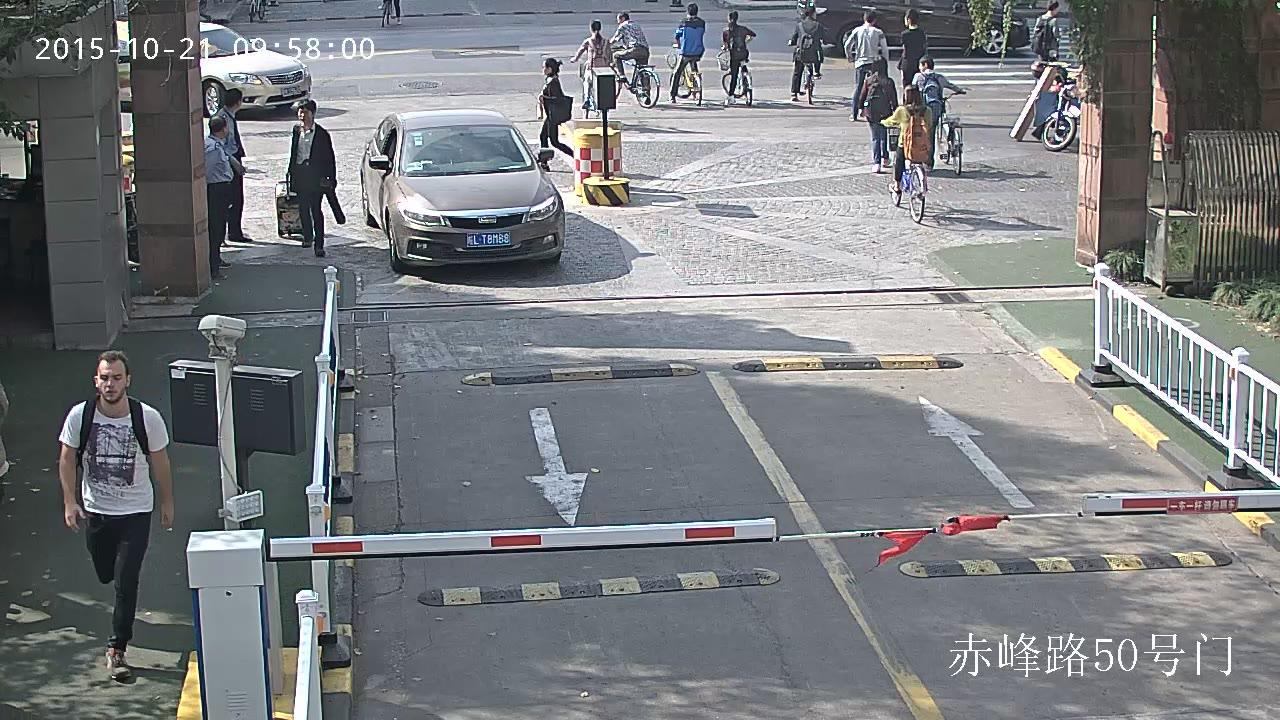person: (57, 348, 174, 680), (275, 99, 344, 256), (286, 99, 346, 256), (877, 83, 934, 223), (909, 54, 966, 176), (203, 114, 246, 268), (212, 87, 253, 243), (910, 54, 962, 175), (878, 84, 933, 193), (844, 8, 888, 122), (609, 11, 659, 109), (564, 18, 611, 119), (535, 57, 573, 171), (857, 58, 897, 161), (665, 3, 705, 105), (565, 19, 611, 107), (716, 9, 756, 106), (609, 12, 651, 104), (784, 5, 822, 105), (669, 3, 705, 103), (722, 9, 756, 104), (788, 6, 821, 101), (896, 8, 926, 105), (1030, 0, 1060, 86)
